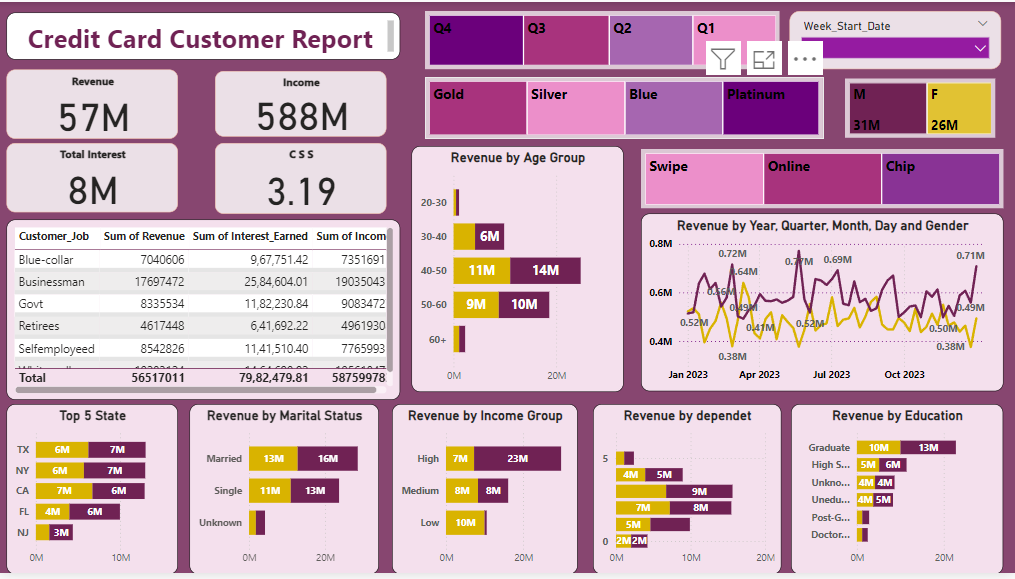

The dashboard page shown, as its layout file describes it:
{"tool":"powerbi","page":{"name":"CC Customer","canvas":[1280,720],"ordinal":1},"visuals":[{"type":"textbox","box":[9.9,13.8,496.3,59.3],"z":0},{"type":"barChart","title":"Revenue by Income Group","fields":{"Y":["Sum(Credit Card.Revenue)"],"Category":["Customer.Income_group"],"Series":["Customer.Gender"]},"box":[494.7,505.8,233.8,214.7],"z":1000},{"type":"barChart","title":" Revenue by Age Group","fields":{"Y":["Sum(Credit Card.Revenue)"],"Category":["Customer.Age_Group"],"Series":["Customer.Gender"]},"box":[520.1,181.3,267.2,310.2],"z":2000},{"type":"tableEx","fields":{"Values":["Customer.Customer_Job","Sum(Credit Card.Revenue)","Sum(Credit Card.Interest_Earned)","Sum(Customer.Income)"]},"box":[9.5,273.6,496.3,227.5],"z":3000},{"type":"card","title":"Revenue","fields":{"Values":["Sum(Credit Card.Revenue)"]},"box":[9.5,84.3,216.3,87.5],"z":4000},{"type":"card","title":"Income","fields":{"Values":["Sum(Customer.Income)"]},"box":[272,87.5,216.3,82.7],"z":5000},{"type":"card","title":"Total Interest","fields":{"Values":["Sum(Credit Card.Interest_Earned)"]},"box":[9.5,178.1,216.3,87.5],"z":6000},{"type":"card","title":"C S S","fields":{"Values":["Avg(Customer.Cust_Satisfaction_Score)"]},"box":[272,178.1,216.3,89.1],"z":7000},{"type":"slicer","fields":{"Values":["Credit Card.Week_Start_Date"]},"box":[996.6,11.9,266.9,73.2],"z":8000},{"type":"treemap","fields":{"Group":["Credit Card.Qtr"],"Values":["Avg(Credit Card.ï»¿Client_Num)"]},"box":[537.6,11.1,447,73.2],"z":9000},{"type":"treemap","fields":{"Values":["Avg(Credit Card.ï»¿Client_Num)"],"Group":["Credit Card.Use Chip"]},"box":[808,184.5,456.5,74.8],"z":10000},{"type":"treemap","fields":{"Values":["Avg(Credit Card.ï»¿Client_Num)"],"Group":["Credit Card.Card_Category"]},"box":[537.6,93.8,501,77.9],"z":11000},{"type":"lineChart","title":"Revenue by Year, Quarter, Month, Day and Gender","fields":{"Y":["Sum(Credit Card.Revenue)"],"Series":["Customer.Gender"],"Category":["Credit Card.Week_Start_Date.Variation.Date Hierarchy.Year","Credit Card.Week_Start_Date.Variation.Date Hierarchy.Quarter","Credit Card.Week_Start_Date.Variation.Date Hierarchy.Month","Credit Card.Week_Start_Date.Variation.Date Hierarchy.Day"]},"box":[808,267.2,456.5,224.3],"z":12000},{"type":"treemap","fields":{"Group":["Customer.Gender"],"Values":["Sum(Credit Card.Revenue)"]},"box":[1065.7,95.4,189.3,74.8],"z":13000},{"type":"barChart","title":" Revenue by dependet ","fields":{"Y":["Sum(Credit Card.Revenue)"],"Category":["Customer.Dependent_Count"],"Series":["Customer.Gender"]},"box":[747.6,505.8,237,214.7],"z":14000},{"type":"barChart","title":" Revenue by Education ","fields":{"Y":["Sum(Credit Card.Revenue)"],"Category":["Customer.Education_Level"],"Series":["Customer.Gender"]},"box":[997.3,505.8,267.2,214.7],"z":15000},{"type":"barChart","title":"Top 5 State","fields":{"Y":["Sum(Credit Card.Revenue)"],"Category":["Customer.state_cd"],"Series":["Customer.Gender"]},"box":[9.5,505.8,216.3,214.7],"z":16000},{"type":"barChart","title":" Revenue by Marital Status","fields":{"Y":["Sum(Credit Card.Revenue)"],"Category":["Customer.Marital_Status"],"Series":["Customer.Gender"]},"box":[240.2,505.8,238.6,214.7],"z":17000}]}

Visuals, with their boxes in screenshot pixels (x1, y1, x2, y2), scaled from the page's 1280x720 canvas onto the 1015x579 screenshot:
textbox: <box>8,11,401,59</box>
"Revenue by Income Group" barChart: <box>392,407,578,578</box>
" Revenue by Age Group" barChart: <box>412,146,624,395</box>
tableEx - Customer.Customer_Job x Sum(Credit Card.Revenue): <box>8,220,401,403</box>
"Revenue" card: <box>8,68,179,138</box>
"Income" card: <box>216,70,387,137</box>
"Total Interest" card: <box>8,143,179,214</box>
"C S S" card: <box>216,143,387,215</box>
slicer - Credit Card.Week_Start_Date: <box>790,10,1002,68</box>
treemap - Credit Card.Qtr x Avg(Credit Card.ï»¿Client_Num): <box>426,9,781,68</box>
treemap - Avg(Credit Card.ï»¿Client_Num) x Credit Card.Use Chip: <box>641,148,1003,209</box>
treemap - Avg(Credit Card.ï»¿Client_Num) x Credit Card.Card_Category: <box>426,75,824,138</box>
"Revenue by Year, Quarter, Month, Day and Gender" lineChart: <box>641,215,1003,395</box>
treemap - Customer.Gender x Sum(Credit Card.Revenue): <box>845,77,995,137</box>
" Revenue by dependet " barChart: <box>593,407,781,578</box>
" Revenue by Education " barChart: <box>791,407,1003,578</box>
"Top 5 State" barChart: <box>8,407,179,578</box>
" Revenue by Marital Status" barChart: <box>190,407,380,578</box>
